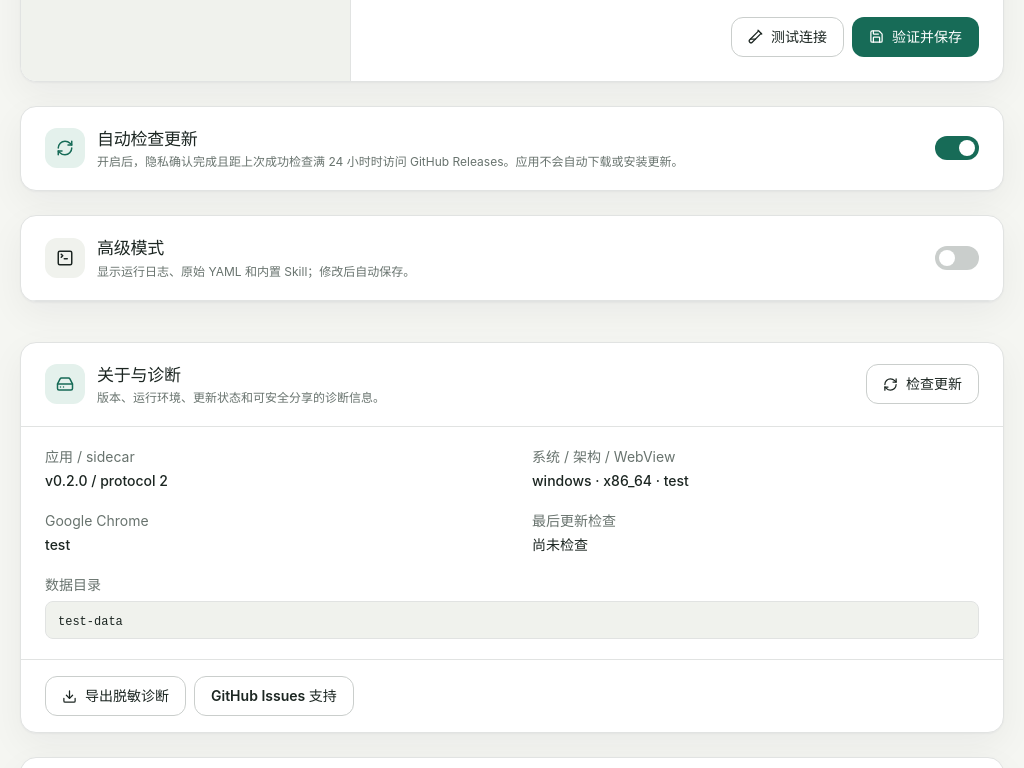
it: settings page › refreshes the successful local update-check time after a manual check
(page scrolled)
Check: the text "尚未检查" is shown, box [532,536,588,553]
Click the button "检查更新". click: (922, 384)
box: [866,364,979,404]
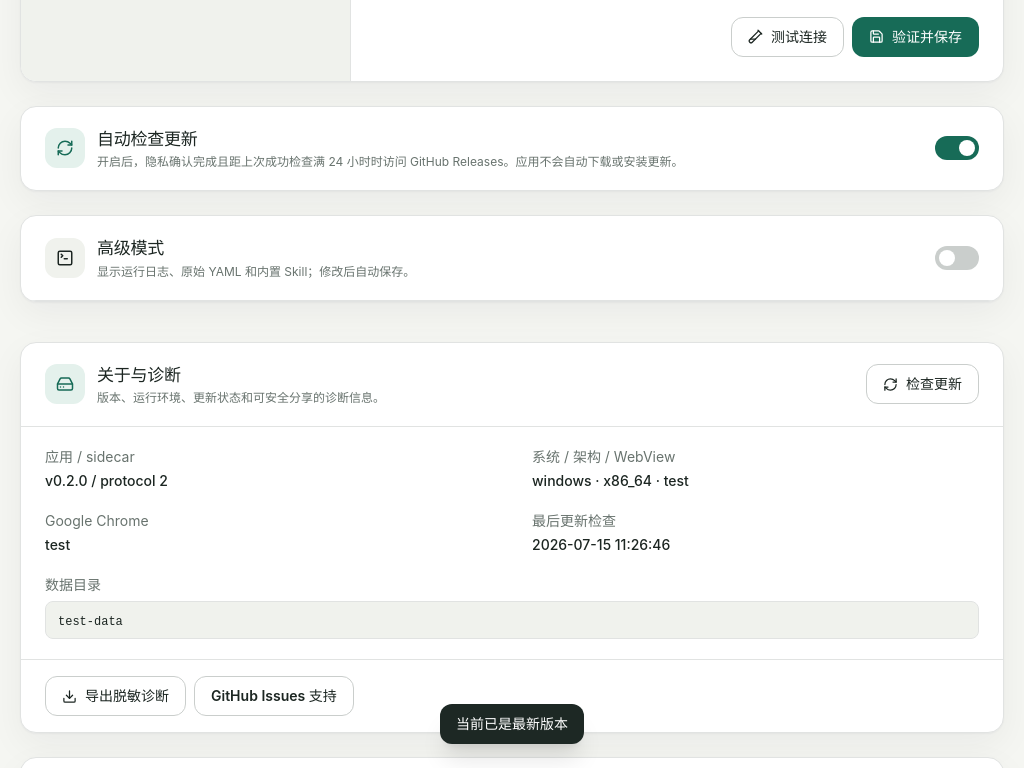
Check: the text "2026-07-15 11:26:46" is shown, box [532,536,670,553]
